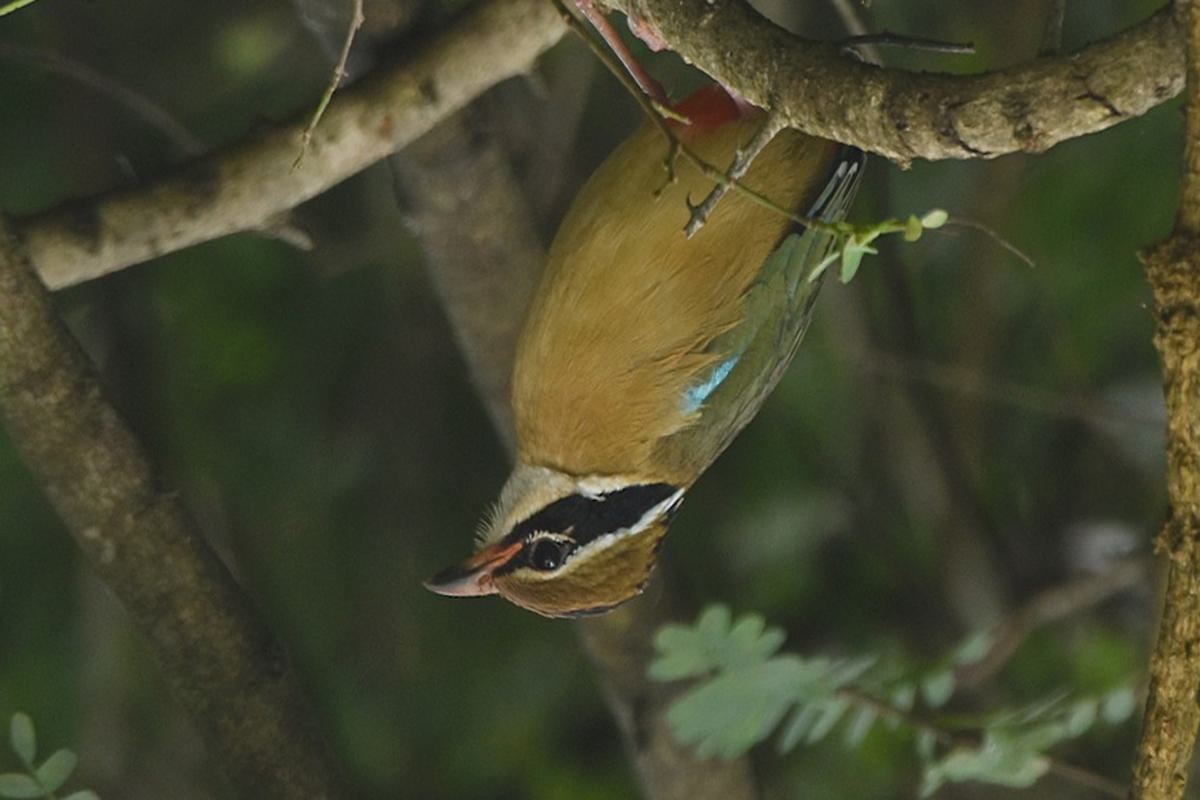pitta: (410, 115, 886, 643)
